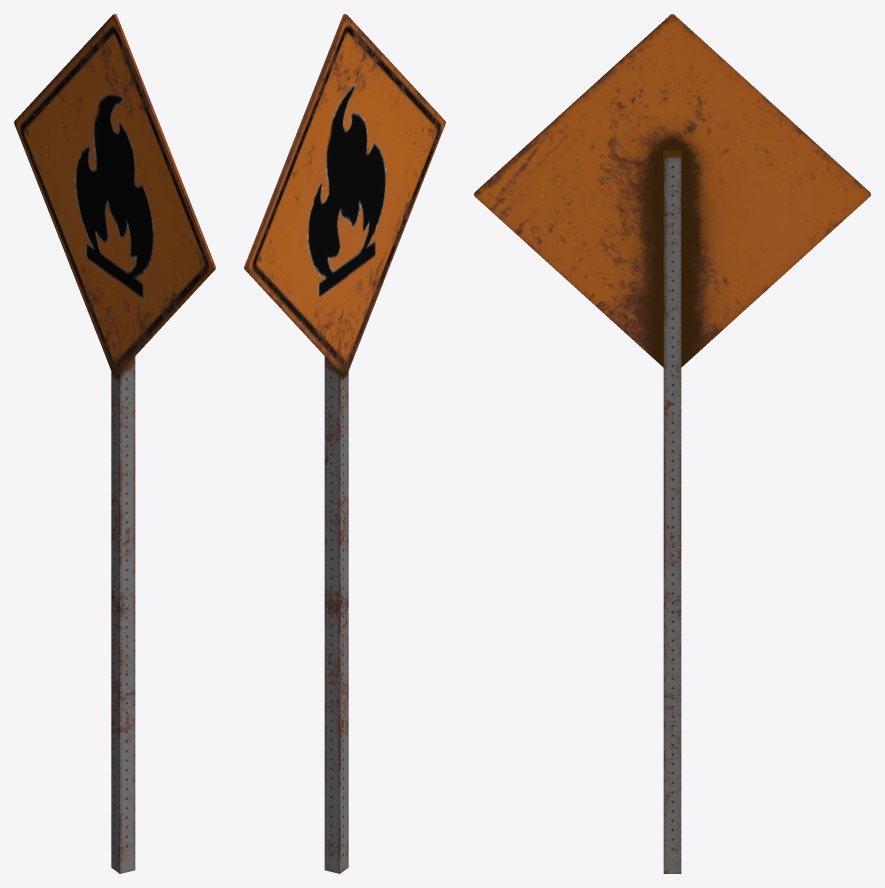
The model's file is Sign3.fbx.
The picture shows the model from 3 angles, left to right: view 1: azimuth 30°, elevation 25°; view 2: azimuth 150°, elevation 25°; view 3: azimuth 270°, elevation 25°; orthographic projection.
Parts seen in each view (by area): view 1: pCube107; view 2: pCube107; view 3: pCube107.
Part boxes in pixels (<box>): pCube107: <box>14,14,215,873</box>; pCube107: <box>244,14,445,873</box>; pCube107: <box>474,14,870,873</box>.
Size of the model in its own units: 0.0592 by 1.2 by 2.83.
